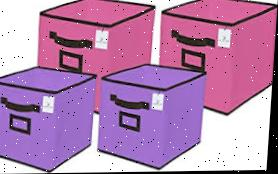cube: (158, 0, 278, 114), (97, 64, 208, 172), (0, 66, 97, 174)
